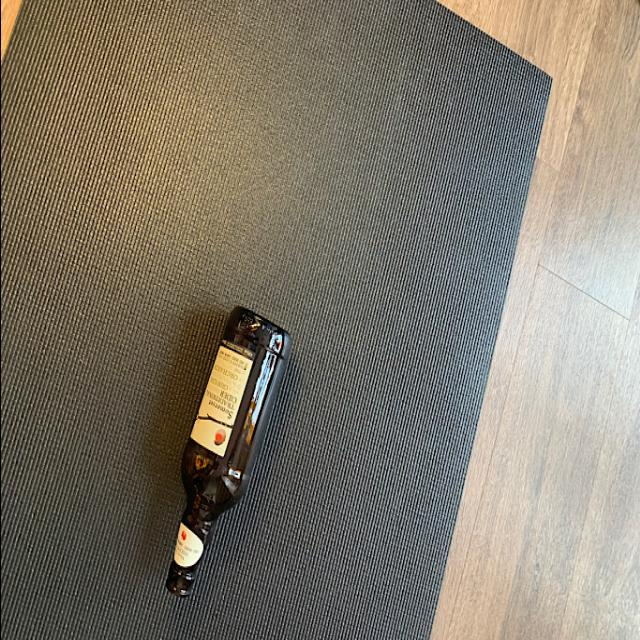Glass Bottle: (162, 300, 295, 600)
